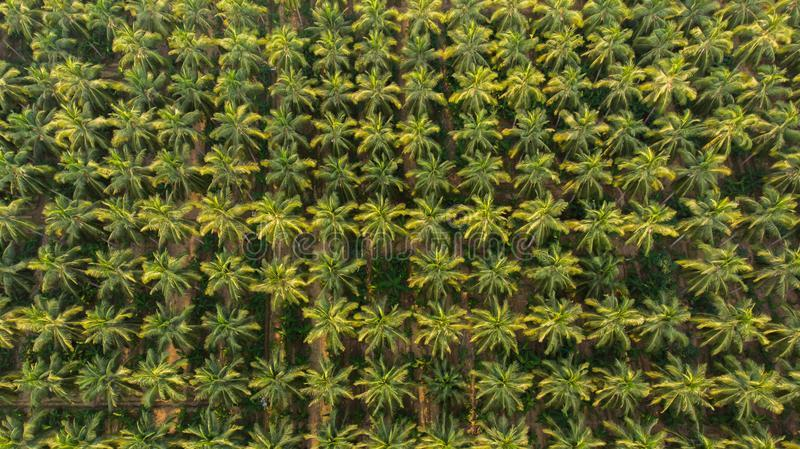coconut_tree: (529, 287, 582, 353), (584, 289, 635, 357), (640, 292, 691, 360), (701, 292, 752, 360), (705, 97, 756, 165), (130, 343, 181, 411), (510, 93, 561, 161), (398, 94, 449, 162), (352, 98, 403, 166), (264, 90, 315, 158), (210, 94, 261, 162), (100, 85, 151, 153), (623, 190, 674, 258), (572, 188, 623, 256), (511, 179, 562, 247), (462, 178, 513, 246), (406, 180, 457, 248), (356, 175, 407, 243), (303, 175, 354, 243), (249, 179, 300, 247), (200, 182, 251, 250), (436, 103, 487, 171), (192, 347, 243, 415), (591, 12, 642, 80), (537, 18, 588, 86), (201, 11, 252, 79), (259, 8, 310, 76), (748, 180, 799, 248), (418, 348, 469, 416), (361, 348, 412, 416), (304, 346, 355, 414), (256, 347, 307, 415), (66, 342, 117, 410), (656, 354, 707, 422), (601, 353, 652, 421), (540, 349, 591, 417), (475, 353, 526, 421), (716, 355, 767, 423), (48, 98, 99, 166), (41, 46, 92, 114), (100, 21, 151, 89), (0, 96, 50, 164), (357, 294, 420, 345), (474, 298, 529, 354), (310, 299, 361, 357), (260, 258, 310, 311), (424, 298, 473, 351), (201, 255, 250, 299), (444, 21, 493, 52)
